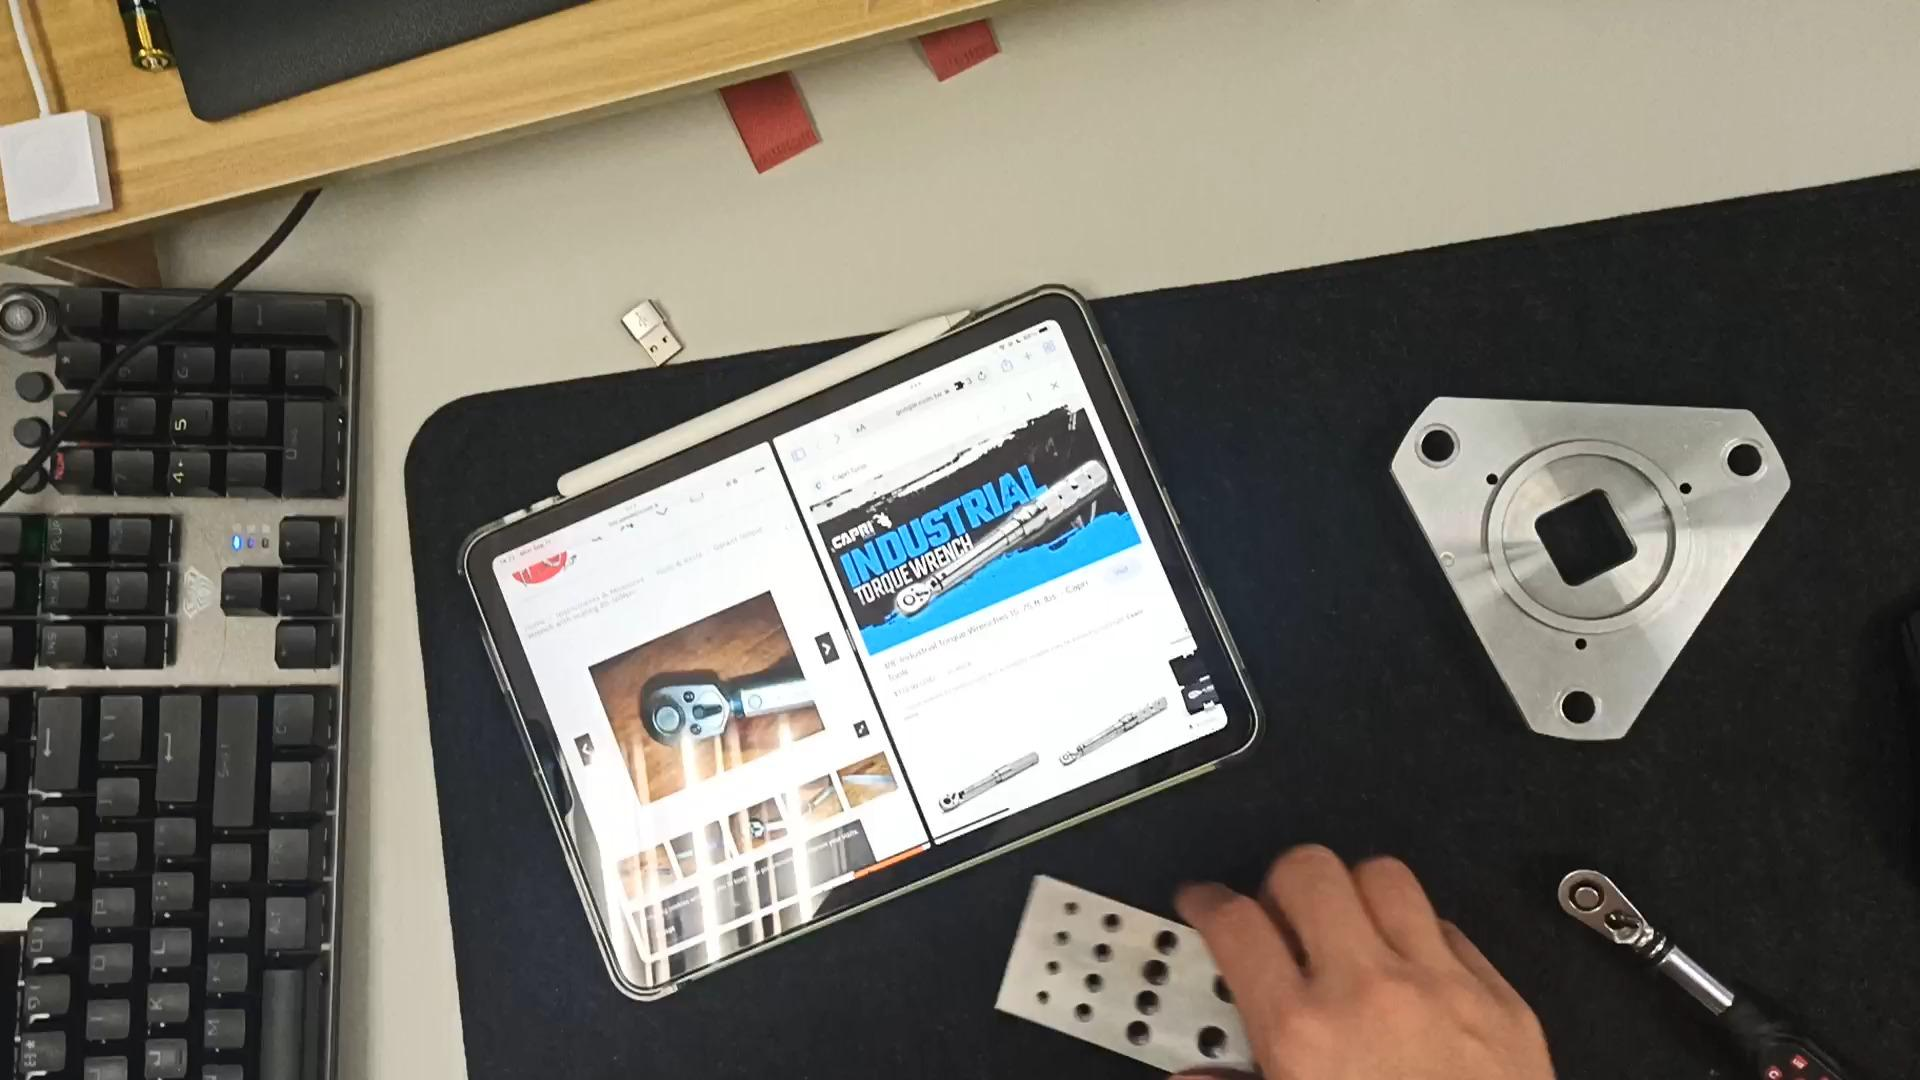Tool: (1555, 870, 1670, 958)
hole: (1538, 680, 1612, 728), (1711, 434, 1778, 483), (1402, 417, 1467, 467), (1174, 1020, 1235, 1060), (1144, 928, 1189, 955), (1132, 962, 1175, 988), (1123, 990, 1165, 1015), (1112, 1023, 1153, 1048), (1087, 940, 1124, 962), (1055, 1003, 1092, 1024), (1097, 909, 1134, 930), (1073, 974, 1109, 994), (1030, 961, 1063, 979), (1039, 929, 1071, 947), (1052, 899, 1084, 916), (1021, 989, 1051, 1007)
